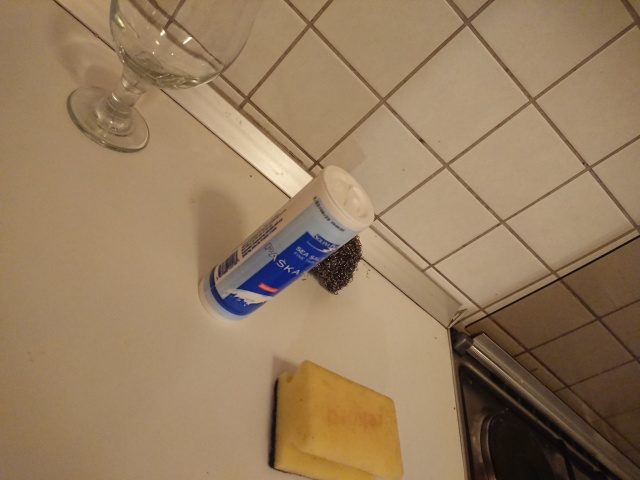Solana Pag Fine Sea Salt 250g: (195, 163, 377, 327)
